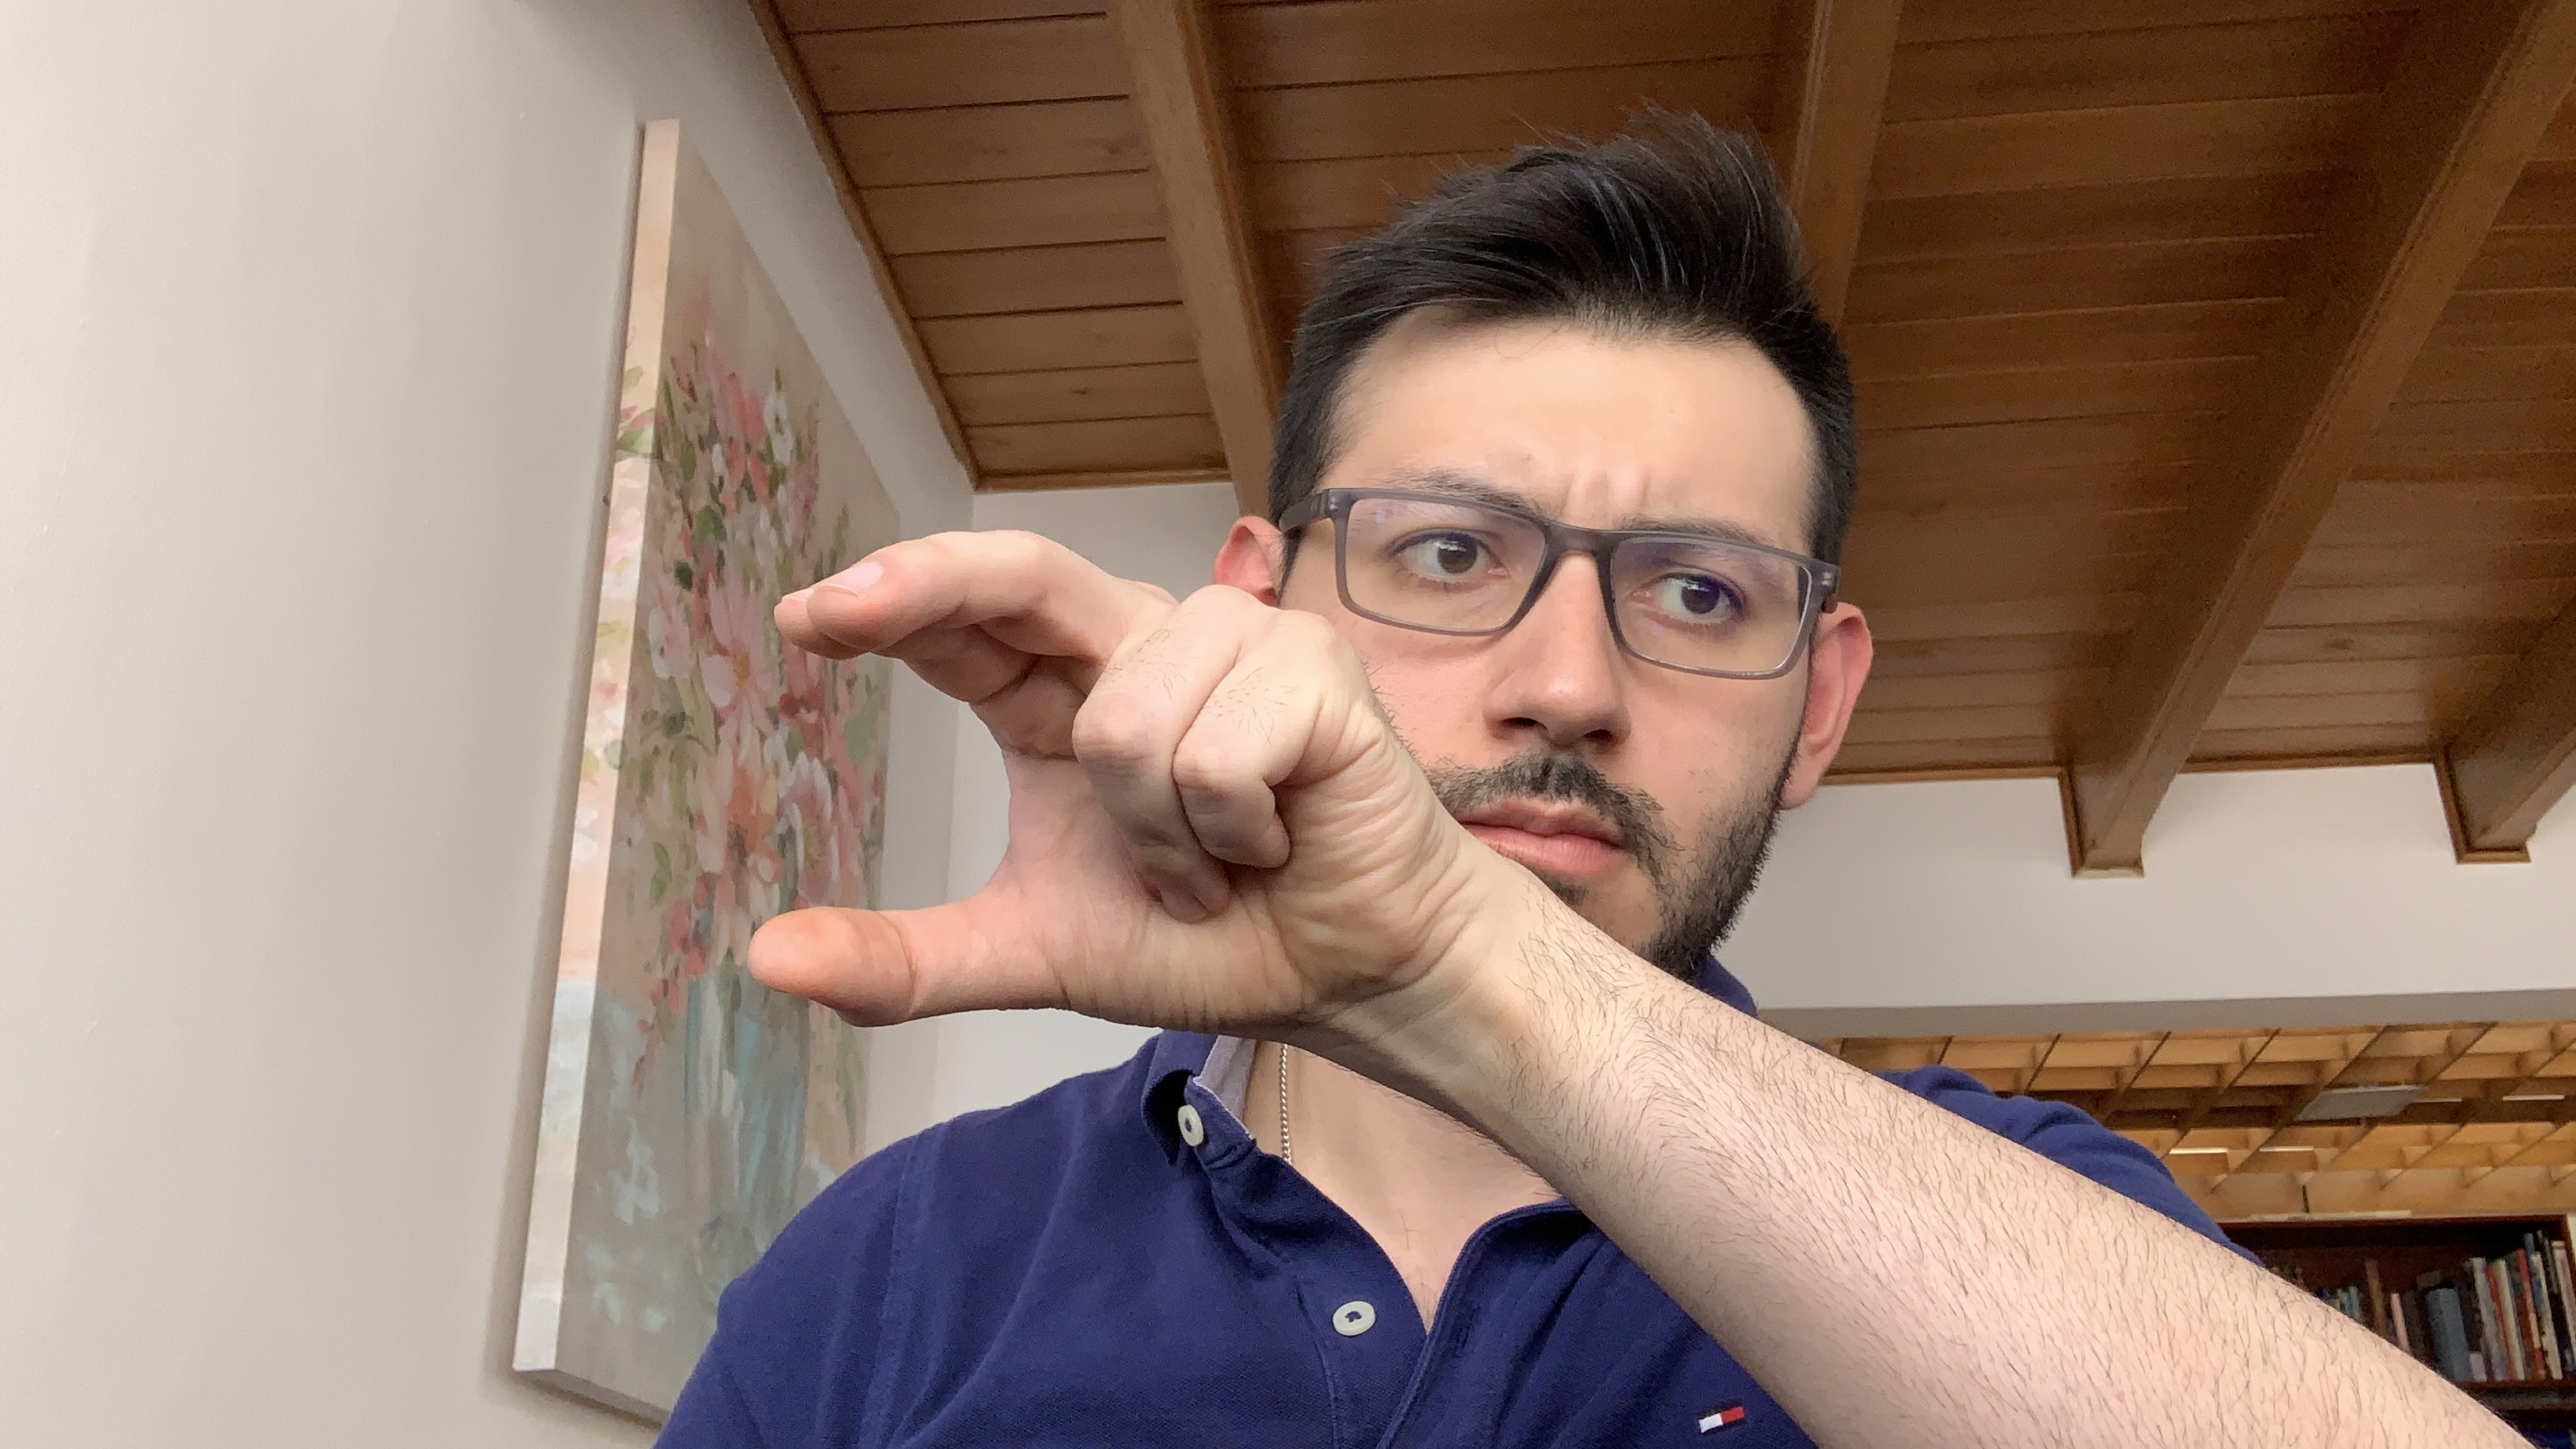No: (734, 520, 1495, 1044)
